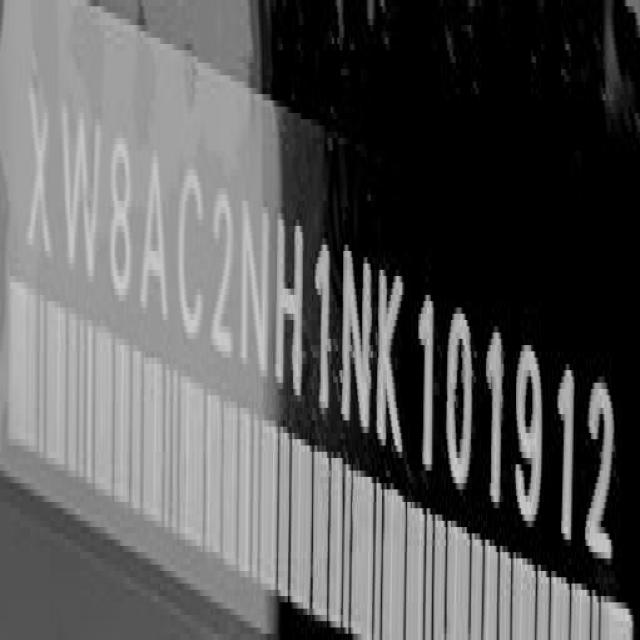0: (447, 301, 473, 500)
1: (313, 242, 334, 437), (558, 357, 576, 556), (487, 323, 504, 519), (420, 288, 434, 481)
2: (590, 380, 617, 578), (211, 184, 236, 367)
8: (112, 132, 135, 310)
9: (516, 338, 542, 534)
A: (138, 143, 166, 327)
C: (179, 162, 207, 350)
H: (278, 212, 304, 404)
K: (378, 267, 408, 465)
N: (342, 242, 374, 432), (240, 197, 270, 388)
W: (60, 99, 100, 297)
X: (26, 84, 52, 278)
